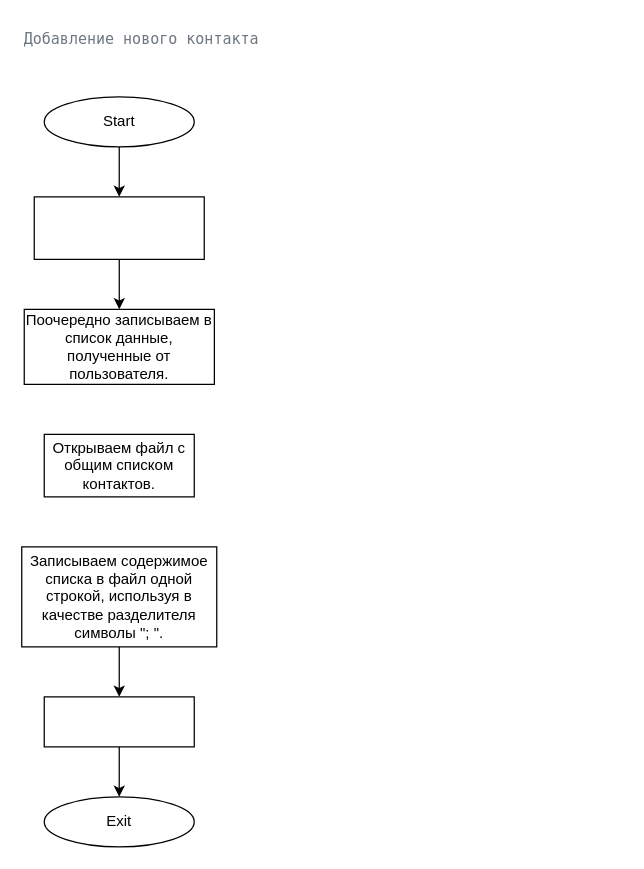
This 644x869 diagram has some shape labels left out. Here are the shapes that lost their labels. From the top down, the centre of each, then its label:
At (118,227): "Объявляем список, куда запишем данные нового контакта.".
At (118,721): "Возвращаем содержимое списка".
